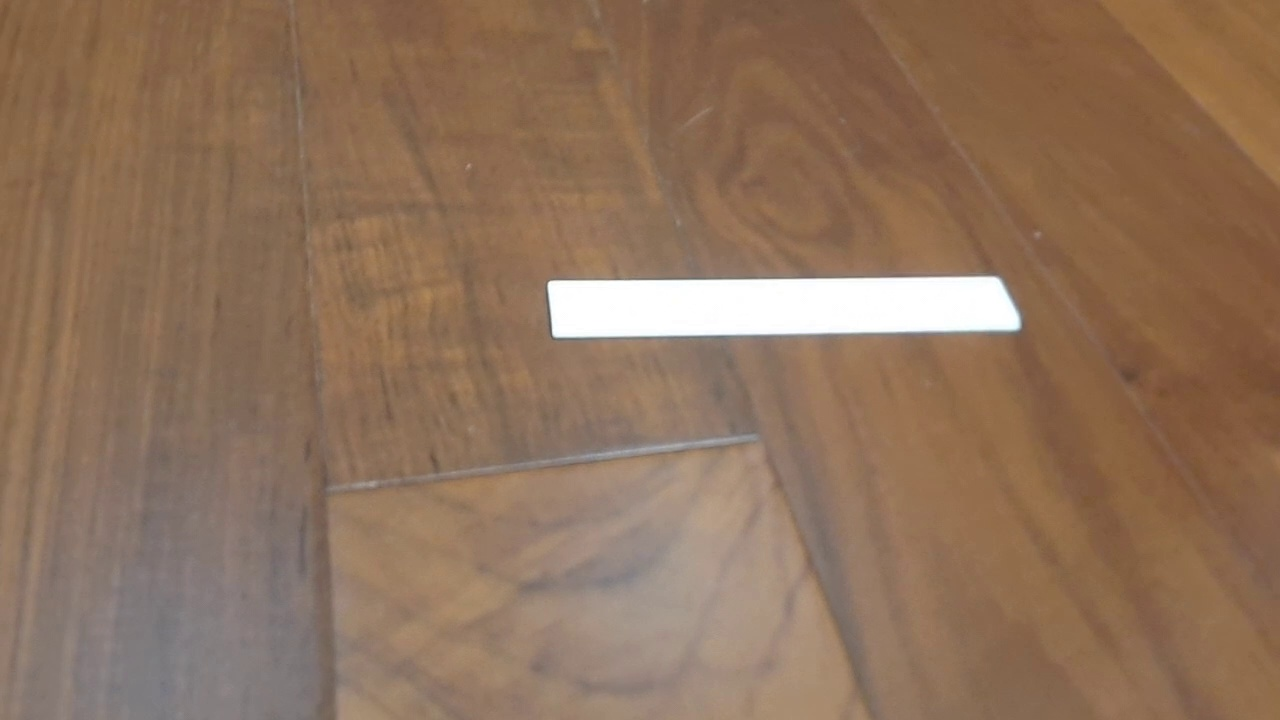ruler: (545, 274, 1024, 340)
